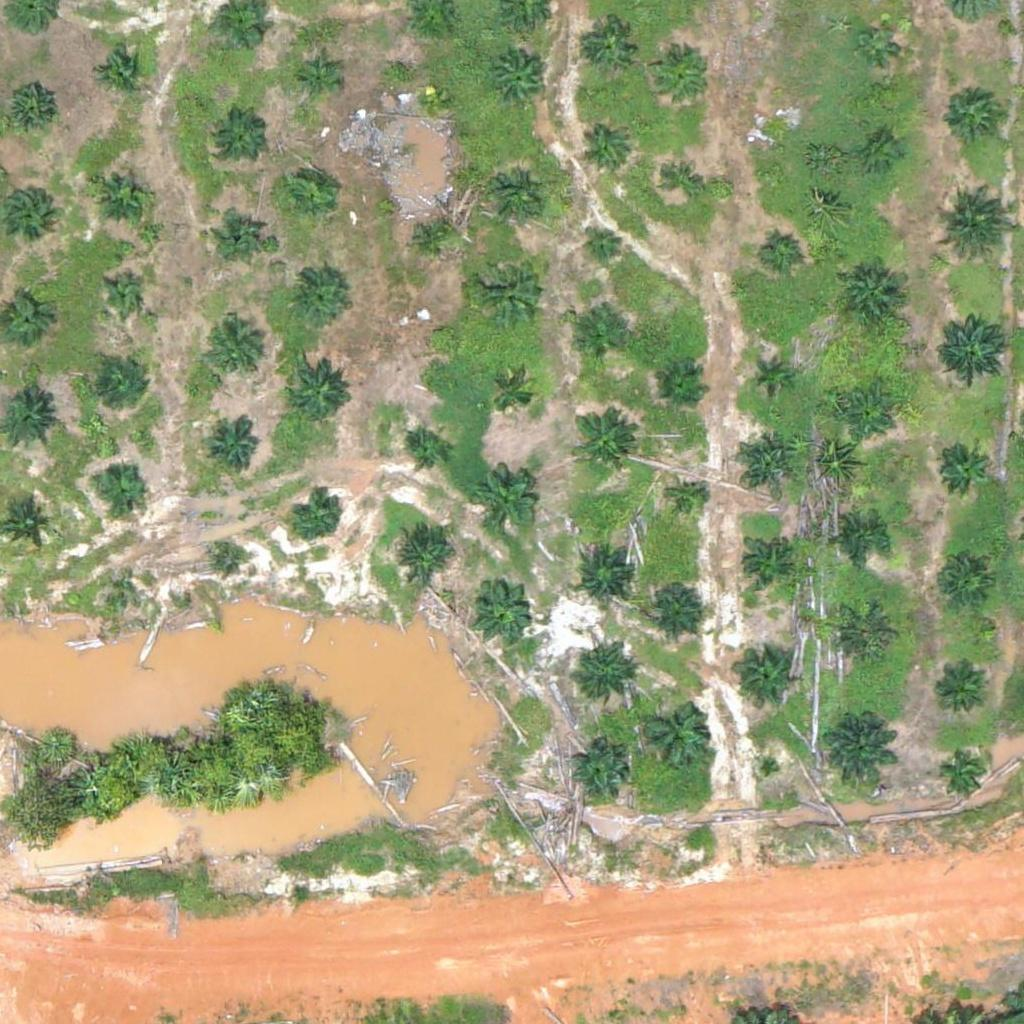Kelapa_Sawit: (474, 248, 549, 324), (821, 710, 896, 786), (635, 697, 710, 773), (933, 191, 1008, 266), (935, 305, 1010, 380), (734, 427, 797, 490), (471, 468, 534, 531), (568, 645, 631, 708), (467, 577, 530, 640), (735, 646, 798, 709), (567, 742, 630, 805), (570, 409, 632, 472), (287, 357, 349, 420), (838, 265, 900, 328), (940, 82, 1002, 145), (205, 320, 267, 383), (485, 165, 547, 228), (284, 267, 346, 330), (91, 162, 153, 225), (834, 605, 896, 668), (390, 522, 452, 585), (490, 52, 552, 114), (575, 547, 637, 609), (642, 575, 704, 637), (840, 392, 890, 443), (935, 443, 985, 494), (94, 458, 144, 509), (98, 359, 148, 410), (1, 501, 51, 552), (4, 83, 54, 134), (95, 47, 145, 98), (939, 556, 989, 607), (835, 514, 885, 564), (209, 424, 259, 474), (290, 491, 340, 541), (216, 208, 266, 258), (219, 2, 269, 52), (215, 112, 265, 162), (586, 20, 636, 70), (656, 52, 706, 102), (569, 315, 619, 365), (282, 168, 332, 218), (1, 186, 51, 236), (934, 667, 984, 717), (739, 537, 789, 587), (940, 748, 990, 798), (655, 362, 705, 412), (486, 371, 536, 421), (401, 428, 451, 478), (409, 211, 459, 261), (581, 124, 631, 174), (297, 58, 335, 96), (671, 483, 709, 521), (584, 226, 622, 264), (759, 120, 797, 158), (665, 162, 703, 200), (864, 136, 901, 174), (750, 358, 787, 396), (764, 234, 802, 271), (104, 275, 141, 313), (859, 24, 896, 61), (215, 544, 240, 569), (418, 86, 443, 111), (425, 321, 450, 346), (120, 578, 145, 603)
